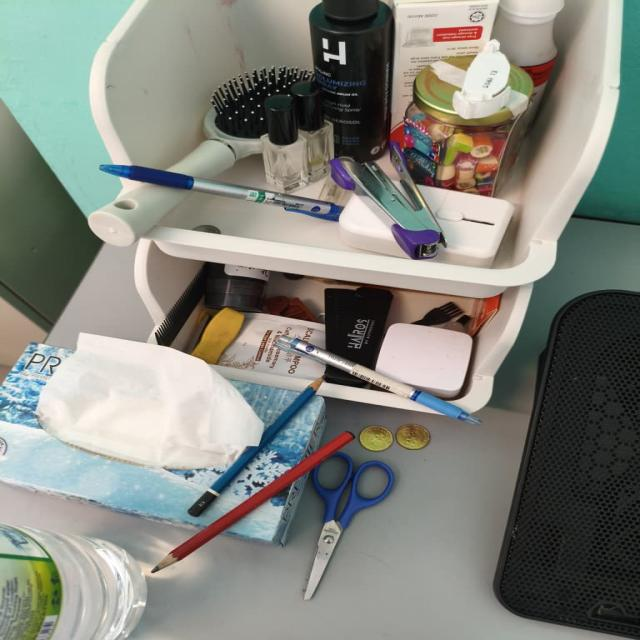pen: (277, 336, 479, 423), (100, 166, 341, 221)
pencil: (152, 431, 353, 572), (188, 377, 322, 516)
scissor: (304, 452, 393, 599)
stapler: (332, 143, 446, 259)
